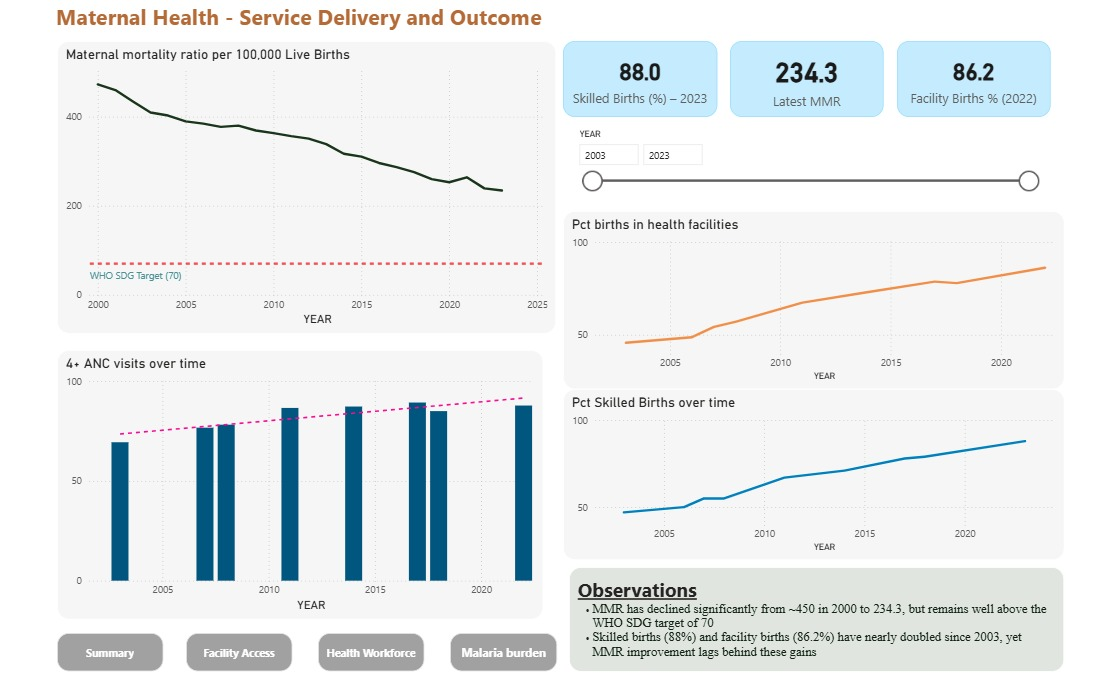

This screenshot's page, from the dashboard's own definition file:
{"tool":"powerbi","page":{"name":"Maternal Health","canvas":[1300,850],"ordinal":2},"visuals":[{"type":"lineChart","title":"Pct Skilled Births over time","fields":{"Category":["Ghana_ Maternal.YEAR"],"Y":["Sum(Ghana_ Maternal.VALUE)"]},"box":[655.4,489.2,626.5,214.5],"z":0},{"type":"lineChart","title":"Pct births in health facilities","fields":{"Category":["Ghana_ Maternal.YEAR"],"Y":["Sum(Ghana_ Maternal.VALUE)"]},"box":[655.4,266.3,626.5,222.9],"z":1000},{"type":"lineChart","title":"Maternal mortality ratio per 100,000 Live Births","fields":{"Category":["Ghana_MMR.YEAR"],"Y":["Avg(Ghana_MMR.MMR_PER_100000_N)"]},"box":[22.9,54.2,624.1,366.3],"z":2000},{"type":"clusteredColumnChart","title":"4+ ANC visits over time","fields":{"Category":["Ghana_ Maternal.YEAR"],"Y":["Sum(Ghana_ Maternal.VALUE)"]},"box":[22.9,439.8,608.4,337.3],"z":3000},{"type":"card","fields":{"Values":["Sum(Ghana_ Maternal.VALUE)"]},"box":[655.4,54.2,192.8,95.2],"z":4000},{"type":"card","fields":{"Values":["Ghana_MMR.Lastest MMR"]},"box":[863.9,54.2,191.6,95.2],"z":5000},{"type":"card","fields":{"Values":["Sum(Ghana_ Maternal.VALUE)"]},"box":[1072.3,54.2,191.6,95.2],"z":6000},{"type":"textbox","box":[16,0,1248,48],"z":7000},{"type":"slicer","fields":{"Values":["Ghana_ Maternal.YEAR"]},"box":[662.7,159,595.2,97.6],"z":8000},{"type":"actionButton","box":[22.9,794,132.5,48.2],"z":9000},{"type":"actionButton","box":[184.3,794,132.5,48.2],"z":10000},{"type":"actionButton","box":[348.2,794,132.5,48.2],"z":11000},{"type":"actionButton","box":[513.3,794,133.7,48.2],"z":12000},{"type":"textbox","box":[662.7,710.8,619.3,131.3],"z":13000}]}

Visuals, with their boxes in screenshot pixels (x1, y1, x2, y2), scaled from the page's 1300x850 canvas onto the 1094x696 screenshot:
"Pct Skilled Births over time" lineChart: [x1=552, y1=401, x2=1079, y2=576]
"Pct births in health facilities" lineChart: [x1=552, y1=218, x2=1079, y2=401]
"Maternal mortality ratio per 100,000 Live Births" lineChart: [x1=19, y1=44, x2=544, y2=344]
"4+ ANC visits over time" clusteredColumnChart: [x1=19, y1=360, x2=531, y2=636]
card - Sum(Ghana_ Maternal.VALUE): [x1=552, y1=44, x2=714, y2=122]
card - Ghana_MMR.Lastest MMR: [x1=727, y1=44, x2=888, y2=122]
card - Sum(Ghana_ Maternal.VALUE): [x1=902, y1=44, x2=1064, y2=122]
textbox: [x1=13, y1=0, x2=1064, y2=39]
slicer - Ghana_ Maternal.YEAR: [x1=558, y1=130, x2=1059, y2=210]
actionButton: [x1=19, y1=650, x2=131, y2=690]
actionButton: [x1=155, y1=650, x2=267, y2=690]
actionButton: [x1=293, y1=650, x2=405, y2=690]
actionButton: [x1=432, y1=650, x2=544, y2=690]
textbox: [x1=558, y1=582, x2=1079, y2=690]
